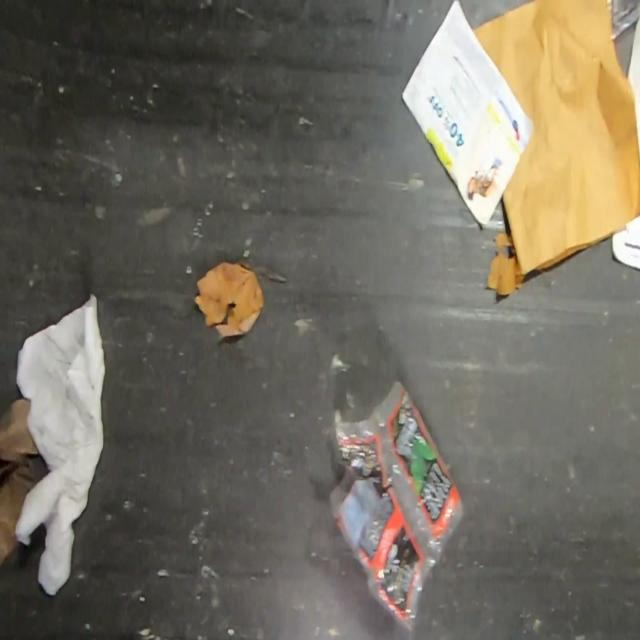soft_plastic: (328, 378, 468, 636)
